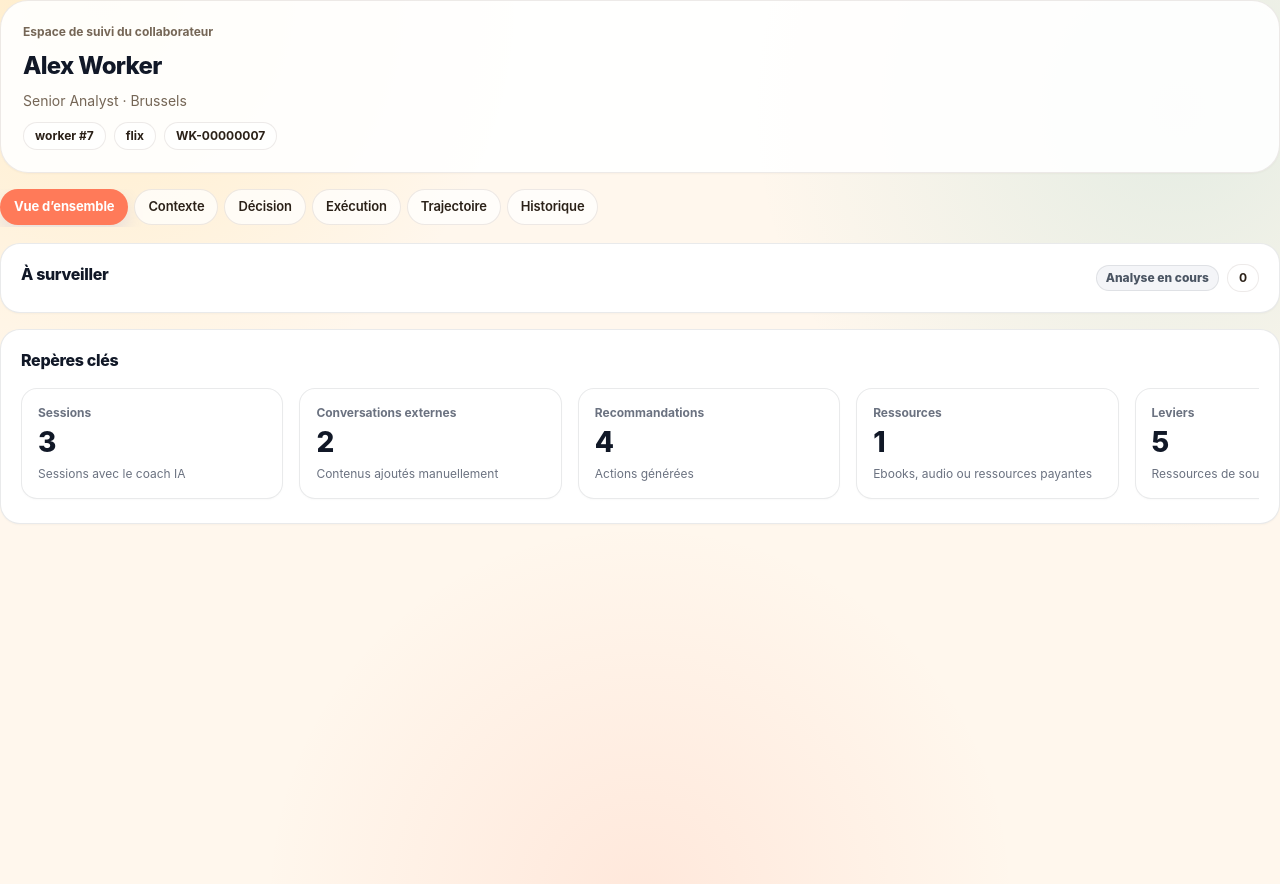
Test case: Organization Insights internationalization › keeps executive attention and metrics exclusive to Overview
This screenshot has width=1280, height=884.
Expected: the element with test id "organization-insights-worker-header" is shown, [0,0,1279,173]
Expected: the element with test id "organization-insights-attention" is shown, [0,243,1279,313]
Step 1. Click the tab "Contexte" → [176, 207], box [134,189,218,225]
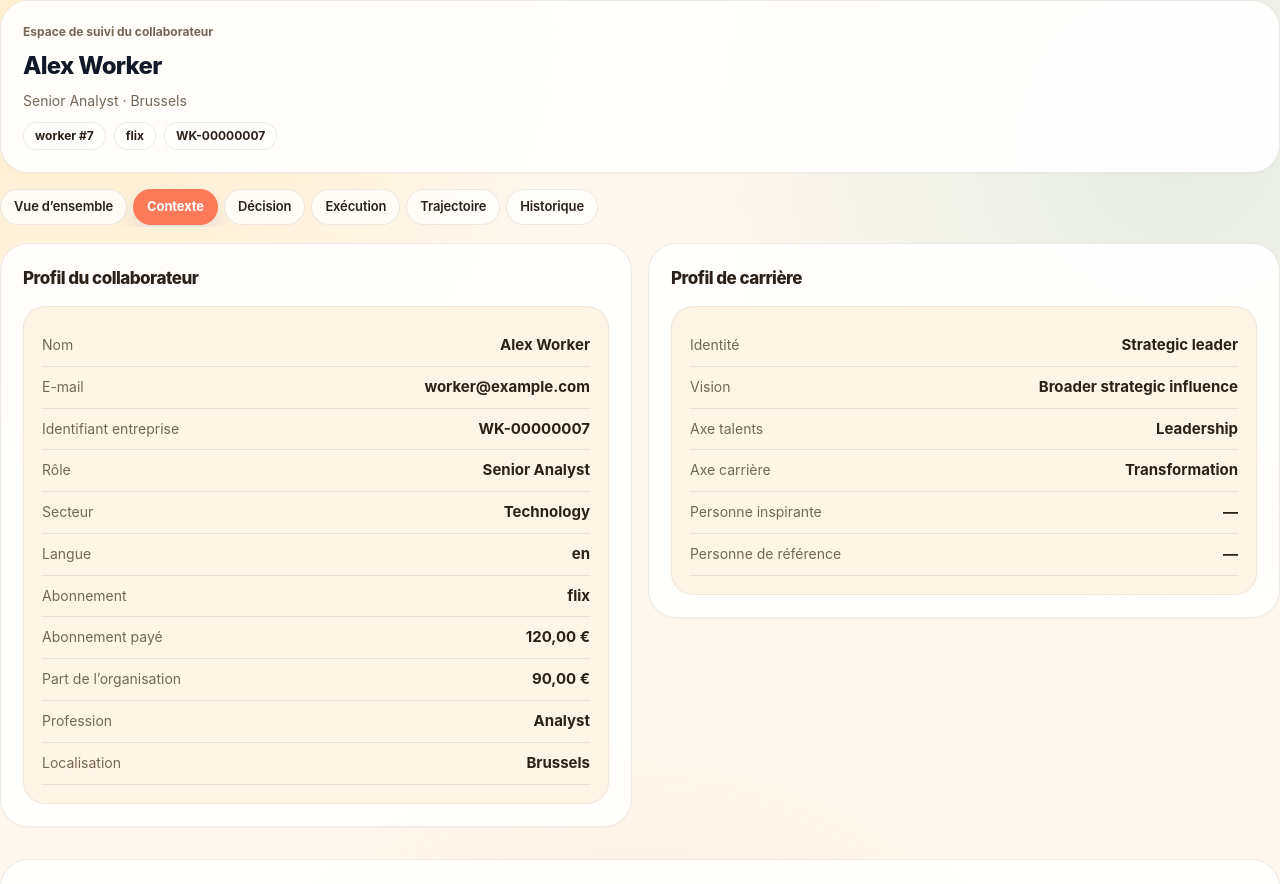
Expected: the element with test id "organization-insights-worker-header" is shown, [0,0,1279,173]
Result: the element with test id "organization-insights-attention" is gone
Result: the element with test id "organization-insights-metrics" is gone
